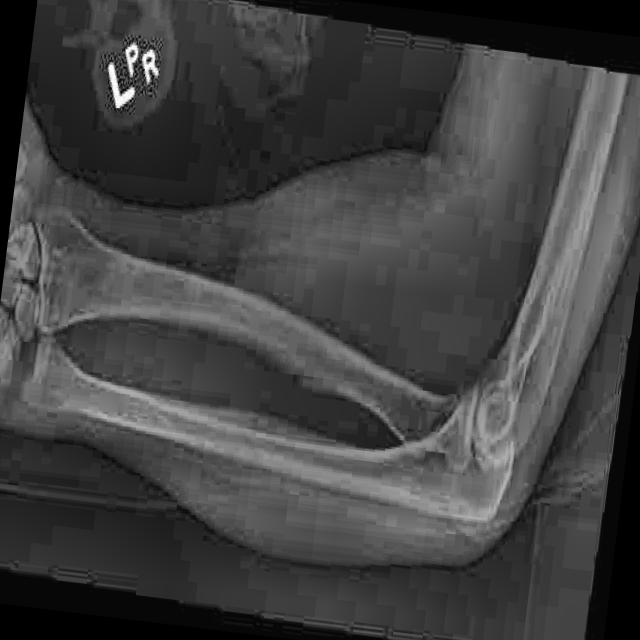forearm fracture: (280, 360, 329, 415)
